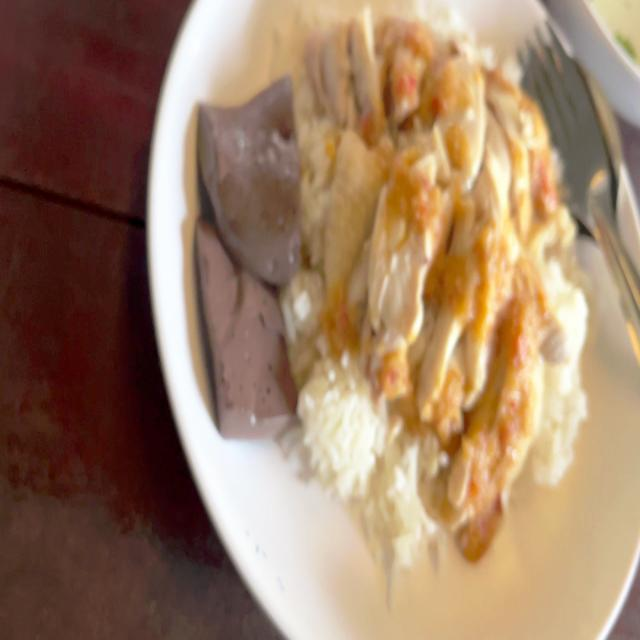boiled_chicken: (302, 4, 552, 466)
boiled_chicken_blood_jelly: (189, 202, 296, 428), (196, 85, 300, 278)
chicken_rice: (195, 8, 592, 586)
